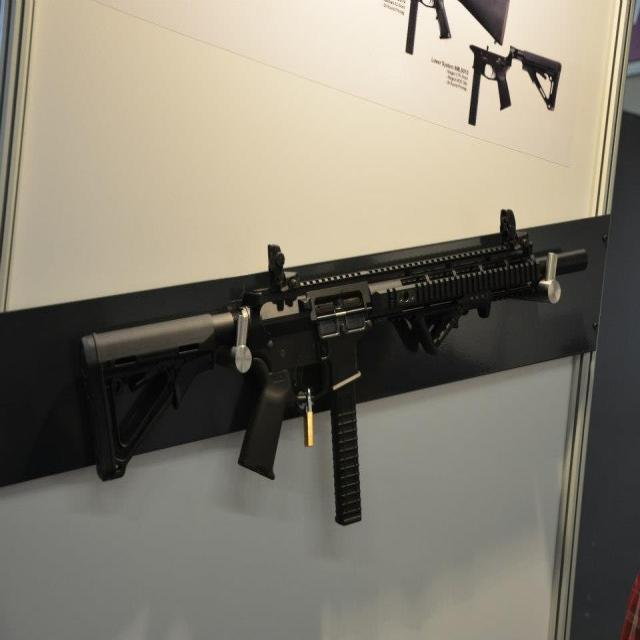firearm: (78, 206, 587, 527), (466, 41, 560, 129), (404, 0, 511, 58)
